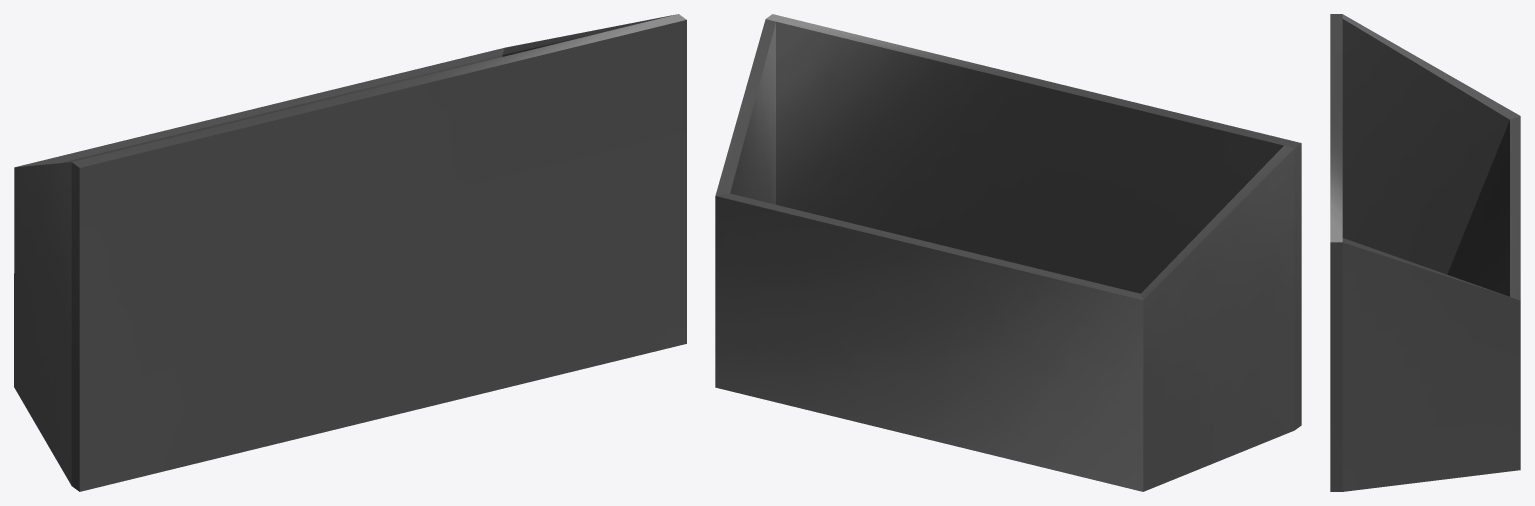
The model's file is trashcan.obj.
3 views of the same model, side by side, from view 1: azimuth 30°, elevation 25°; view 2: azimuth 150°, elevation 25°; view 3: azimuth 270°, elevation 25° (orthographic). The views are drawn at different scales.
Parts seen in each view (by area): view 1: BagTrash_btmdl; view 2: BagTrash_btmdl; view 3: BagTrash_btmdl.
Part boxes in pixels (x1,y1,x2,y2): BagTrash_btmdl: (14,14,686,491); BagTrash_btmdl: (715,14,1301,491); BagTrash_btmdl: (1330,14,1520,491).
Bounding box in the file's own units: 1 × 0.51 × 0.3527.
